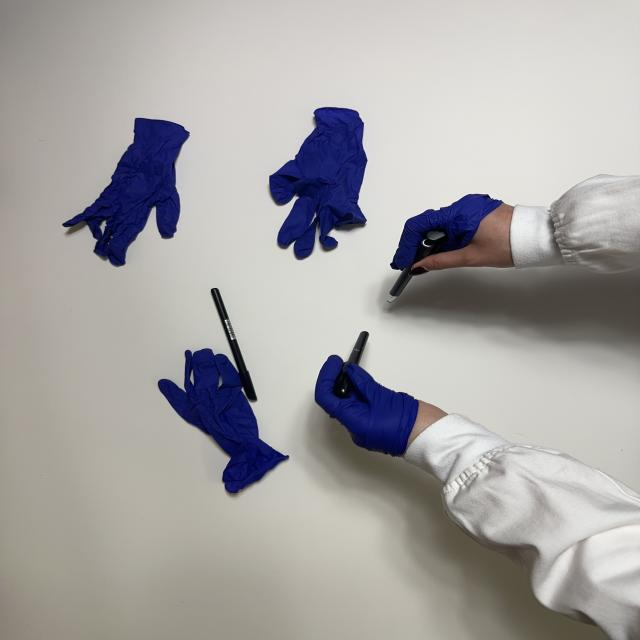glove_partial: (314, 352, 454, 460), (392, 189, 522, 275)
